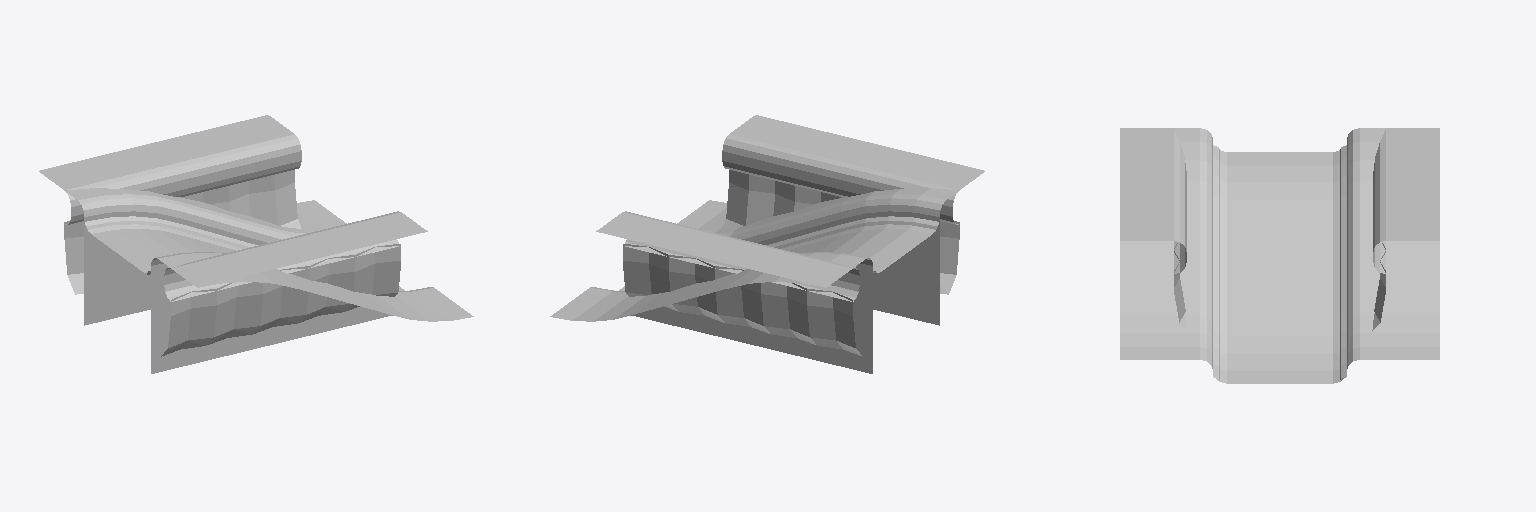
File: Track_Cliff_Incline_Striped_2_Tall_Double.obj
3 views of the same model, side by side, from view 1: azimuth 30°, elevation 25°; view 2: azimuth 150°, elevation 25°; view 3: azimuth 270°, elevation 25° (orthographic).
Parts seen in each view (by area): view 1: Grass, Rock, Dirt, Raceline_Color_2, Raceline_Color_1; view 2: Grass, Rock, Dirt, Raceline_Color_2, Raceline_Color_1; view 3: Grass, Dirt, Raceline_Color_1, Raceline_Color_2, Rock.
Part boxes in pixels (x1,y1,x2,y2): Grass: (39, 115, 473, 373); Rock: (64, 170, 400, 356); Dirt: (85, 224, 404, 290); Raceline_Color_2: (85, 216, 249, 274); Raceline_Color_1: (109, 216, 257, 246); Grass: (550, 115, 984, 373); Rock: (623, 170, 959, 356); Dirt: (619, 224, 938, 290); Raceline_Color_2: (774, 216, 938, 274); Raceline_Color_1: (766, 216, 914, 246); Grass: (1120, 128, 1439, 368); Dirt: (1214, 150, 1345, 383); Raceline_Color_1: (1213, 159, 1346, 379); Raceline_Color_2: (1213, 145, 1346, 366); Rock: (1174, 243, 1385, 330).
Size of the model in its own units: 6 by 2.5 by 6.